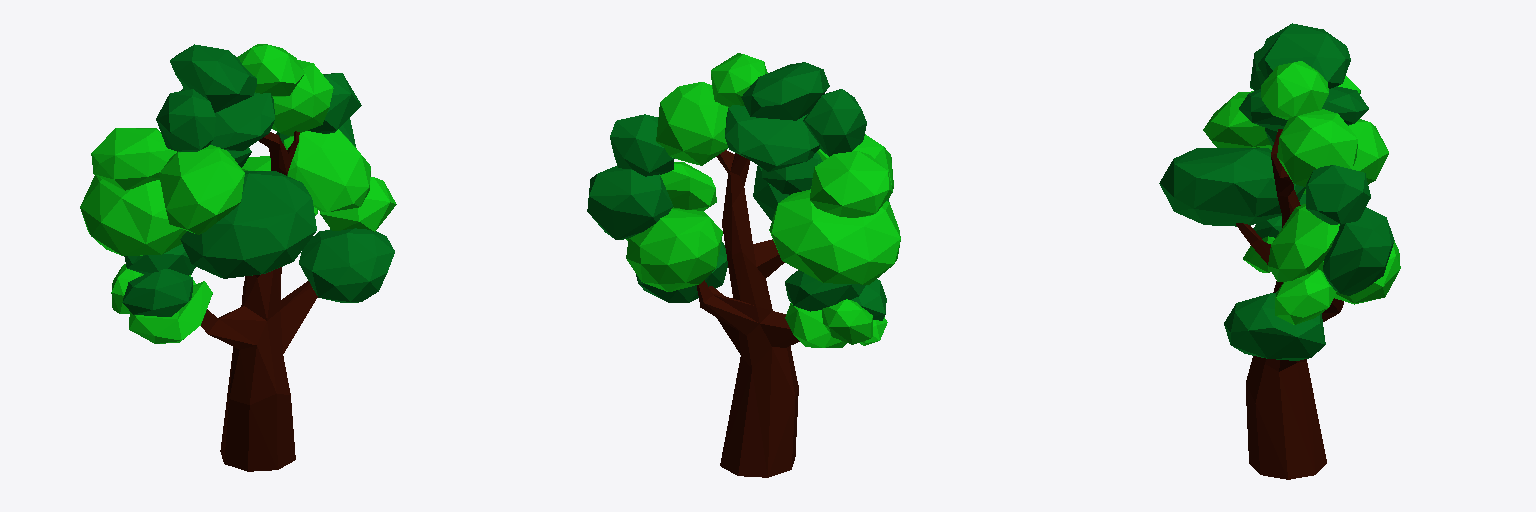
File: oaktree.obj
3 views of the same model, side by side, from view 1: azimuth 30°, elevation 25°; view 2: azimuth 150°, elevation 25°; view 3: azimuth 270°, elevation 25° (orthographic).
Parts seen in each view (by area): view 1: Oak_Cylinder.004; view 2: Oak_Cylinder.004; view 3: Oak_Cylinder.004.
Part boxes in pixels (left/top/right/bottom): Oak_Cylinder.004: left=80, top=44, right=396, bottom=471; Oak_Cylinder.004: left=587, top=53, right=900, bottom=477; Oak_Cylinder.004: left=1159, top=23, right=1400, bottom=479.
Size of the model in its own units: 9.47 by 12.7 by 6.8.